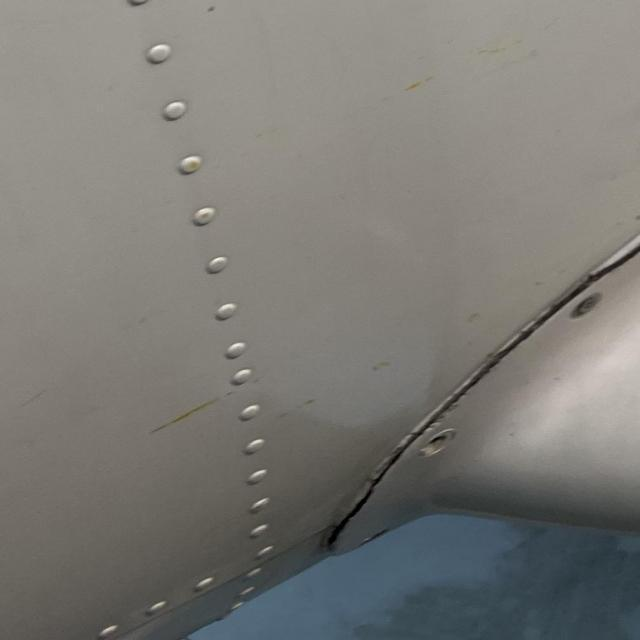Crack: (432, 281, 592, 417), (320, 444, 406, 558), (591, 237, 640, 291)
Missing-head: (417, 431, 455, 460)
